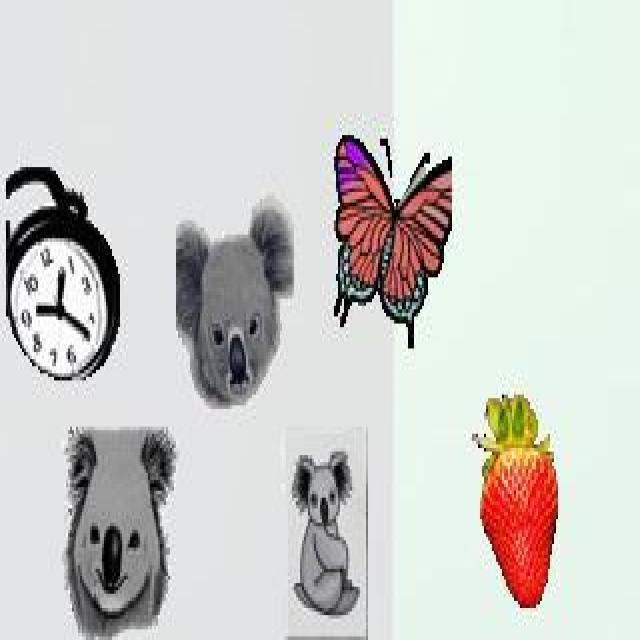Other Objects: (332, 132, 452, 350), (5, 162, 120, 384)
